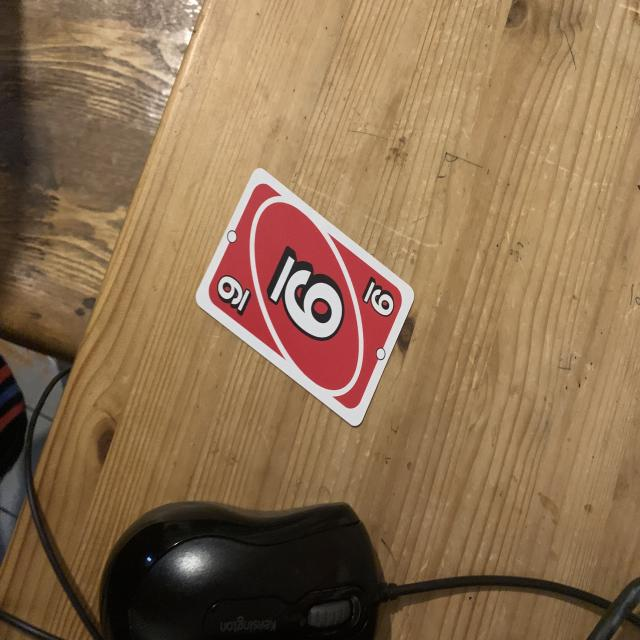lred-9: (214, 268, 256, 320)
